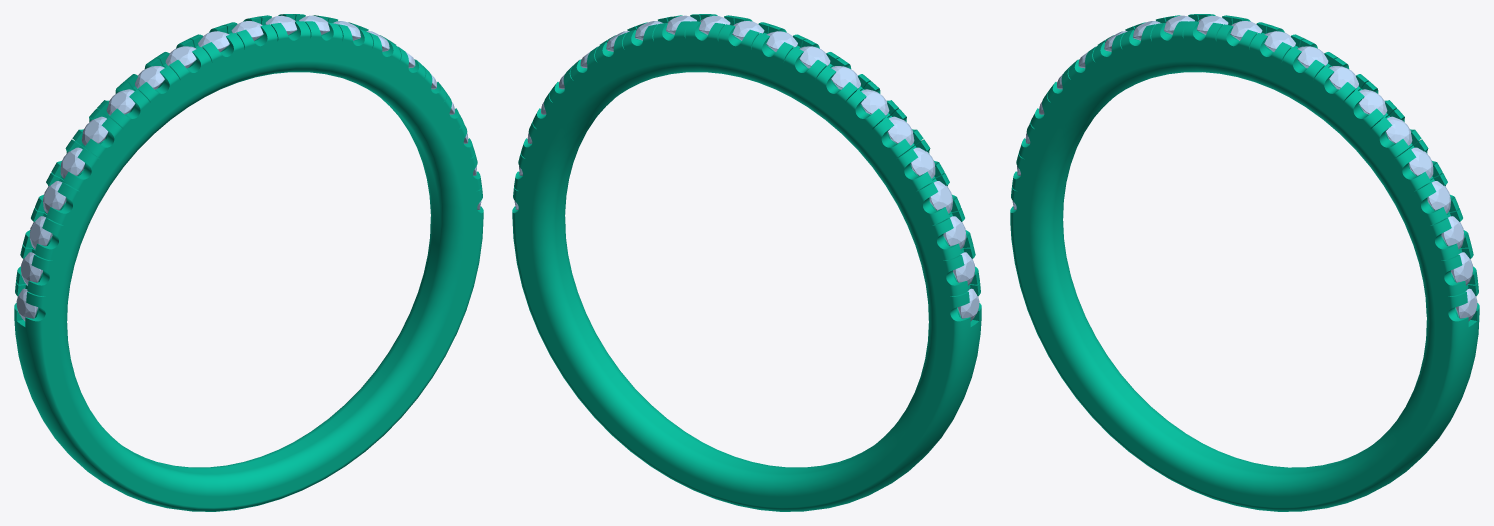
3 renders of one model, left to right at view 1: azimuth 30°, elevation 25°; view 2: azimuth 150°, elevation 25°; view 3: azimuth 330°, elevation 25°, orthographic.
Parts seen in each view (by area): view 1: SIZE- O(front).3dm; view 2: SIZE- O(front).3dm; view 3: SIZE- O(front).3dm.
Boxes of the visible parts, bbox=[...] form: SIZE- O(front).3dm: bbox=[14, 14, 483, 511]; SIZE- O(front).3dm: bbox=[512, 14, 981, 511]; SIZE- O(front).3dm: bbox=[1010, 14, 1479, 511].
Size of the model in its own units: 2.82 by 2.82 by 0.2653.
